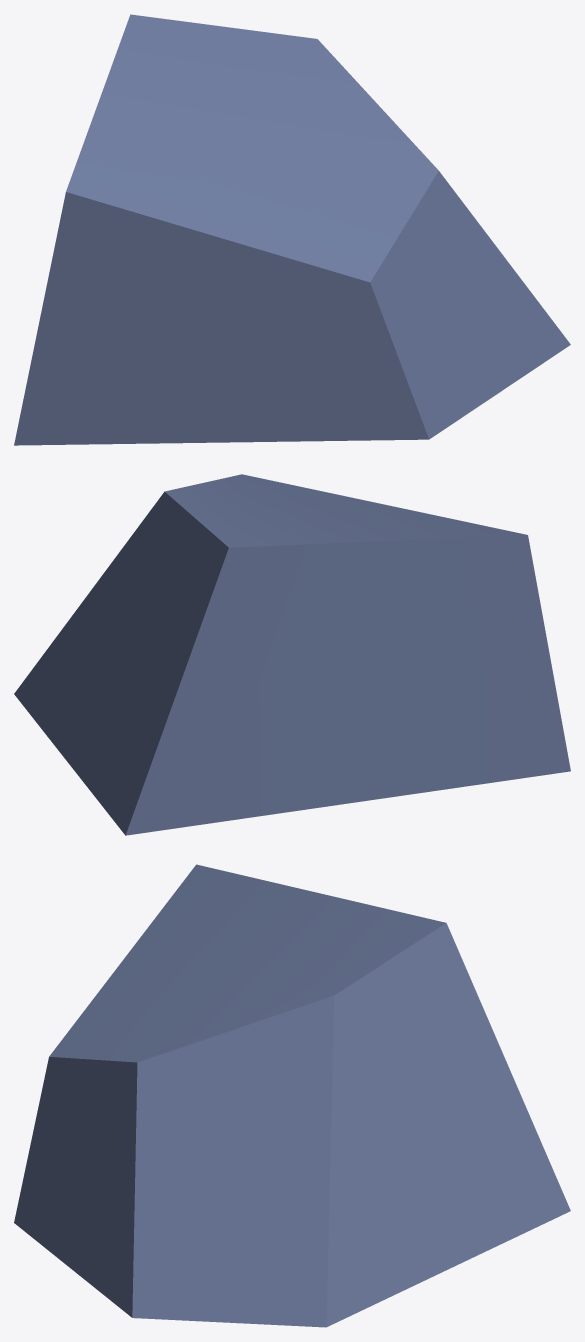
The model's file is piedra_1.fbx.
3 renders of one model, top to bottom at view 1: azimuth 30°, elevation 25°; view 2: azimuth 150°, elevation 25°; view 3: azimuth 270°, elevation 25°, orthographic. The views are drawn at different scales.
Parts seen in each view (by area): view 1: p_piedra_chica; view 2: p_piedra_chica; view 3: p_piedra_chica.
Part boxes in pixels (left/top/right/bottom): p_piedra_chica: left=14, top=14, right=570, bottom=445; p_piedra_chica: left=14, top=474, right=570, bottom=835; p_piedra_chica: left=14, top=864, right=570, bottom=1327.
Bounding box in the file's own units: 32.37 × 15.87 × 30.13.
